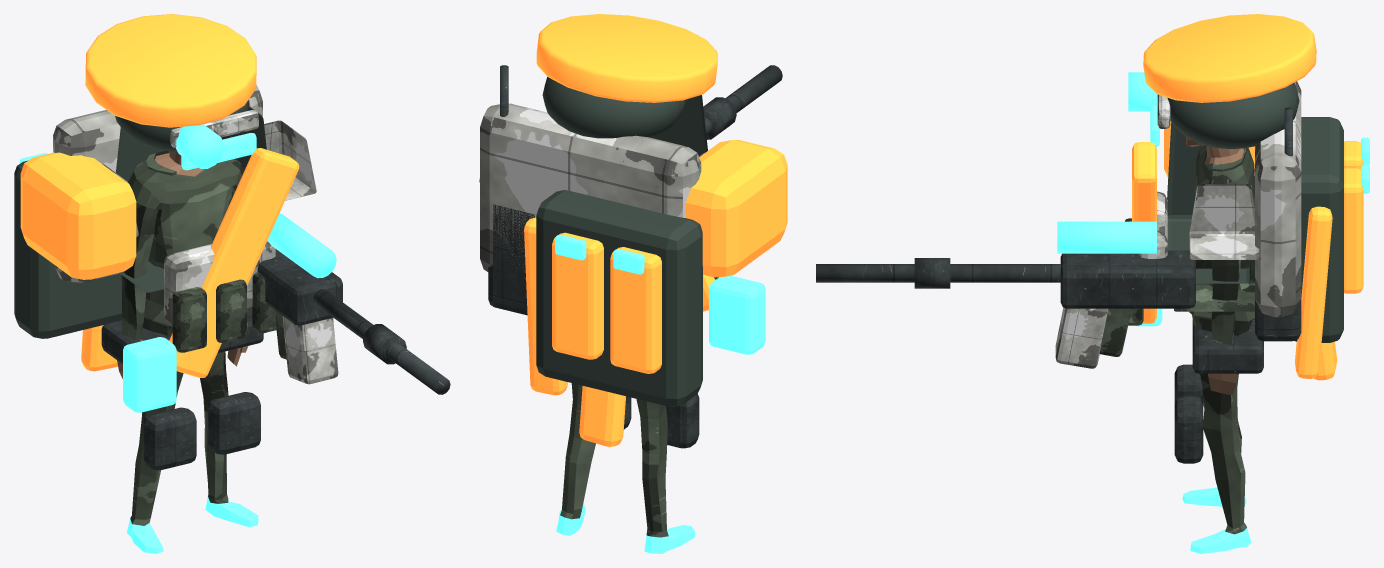
The model's file is commando.glb.
The picture shows the model from 3 angles, left to right: view 1: azimuth 30°, elevation 25°; view 2: azimuth 150°, elevation 25°; view 3: azimuth 270°, elevation 25°; orthographic projection. The views are drawn at different scales.
Visible parts, largest first — view 1: commando_warning_emissive, BaseHuman_baked, commando_armor_dark, commando_commando_armor, commando_glass_emissive, commando_team_accent, commando_team_primary, commando_fabric_dark; view 2: commando_warning_emissive, commando_commando_armor, commando_team_primary, commando_armor_dark, BaseHuman_baked, commando_glass_emissive; view 3: commando_warning_emissive, commando_armor_dark, commando_commando_armor, commando_team_primary, BaseHuman_baked, commando_glass_emissive, commando_team_accent, commando_fabric_dark.
Boxes of the visible parts, x1,y1,x2,y2 form: commando_warning_emissive: (20, 14, 299, 377); BaseHuman_baked: (117, 151, 258, 553); commando_armor_dark: (101, 249, 450, 470); commando_commando_armor: (14, 100, 266, 338); commando_glass_emissive: (20, 124, 336, 412); commando_team_accent: (164, 110, 338, 384); commando_team_primary: (53, 85, 316, 282); commando_fabric_dark: (172, 272, 286, 359); commando_warning_emissive: (524, 14, 787, 447); commando_commando_armor: (536, 77, 707, 406); commando_team_primary: (479, 103, 704, 271); commando_armor_dark: (488, 65, 782, 448); BaseHuman_baked: (556, 383, 695, 553); commando_glass_emissive: (555, 234, 765, 354); commando_warning_emissive: (1132, 14, 1363, 380); commando_armor_dark: (816, 107, 1301, 463); commando_commando_armor: (1167, 83, 1343, 342); commando_team_primary: (1189, 81, 1301, 317); BaseHuman_baked: (1182, 136, 1254, 553); commando_glass_emissive: (1057, 72, 1369, 326); commando_team_accent: (1055, 94, 1170, 368); commando_fabric_dark: (1099, 218, 1254, 356).
Bounding box in the file's own units: 0.8287 × 1.5 × 1.55.
8 materials, 4 textured.
